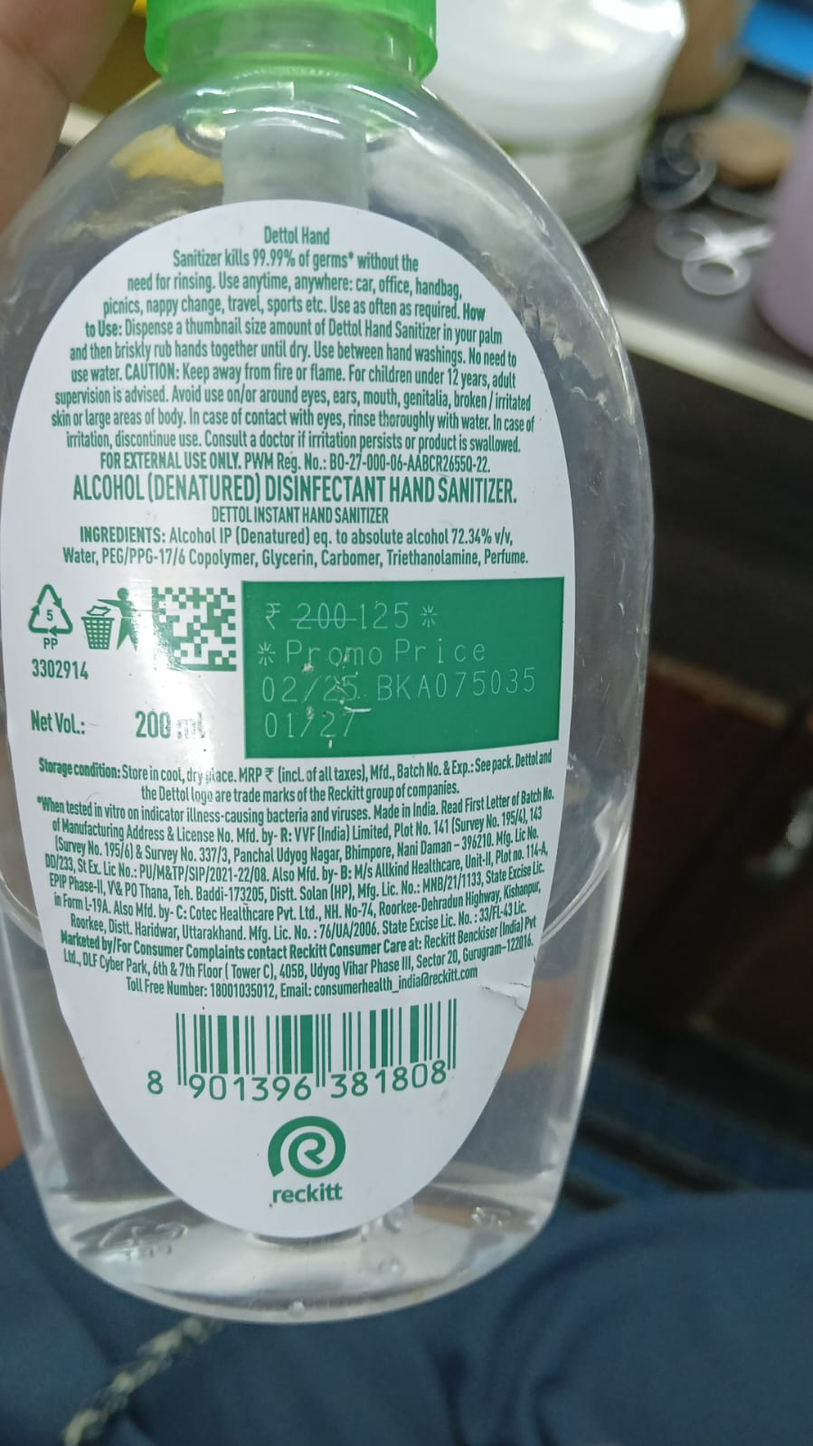brand_panel: (174, 227, 353, 273)
consumer_care: (116, 967, 512, 1001)
manufacturer: (272, 855, 456, 882), (114, 900, 319, 922), (237, 819, 396, 847)
mfg_date: (253, 668, 377, 711)
mrp: (251, 590, 460, 638)
net_qty: (107, 699, 235, 752)
